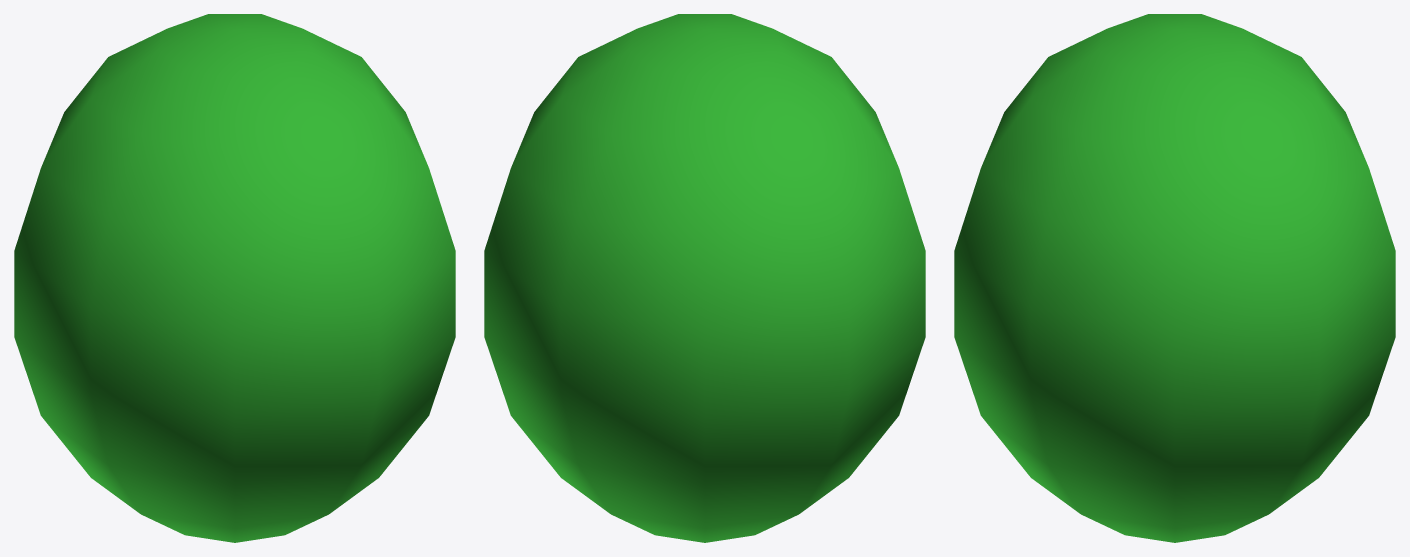
The model's file is leaflet_stage1.obj.
3 views of the same model, side by side, from view 1: azimuth 30°, elevation 25°; view 2: azimuth 150°, elevation 25°; view 3: azimuth 270°, elevation 25° (orthographic).
Bounding box in the file's own units: 1.24 × 1.56 × 1.26.
